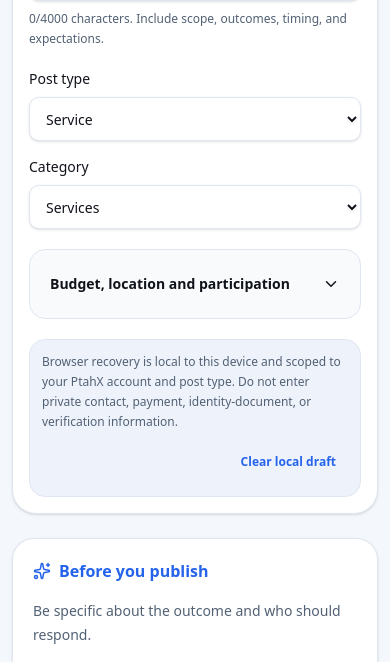
Scenario: opportunity composer › uses one mobile disclosure while keeping optional controls desktop-visible
(page scrolled)
Click the button "Budget, location and participation" at (195, 284), box [42,262,348,306]
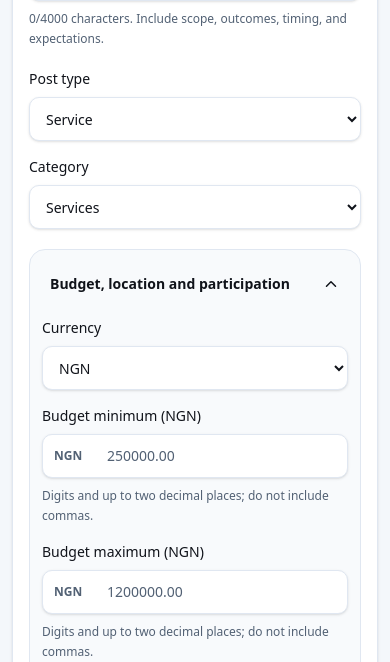
Now the button "Budget, location and participation" is expanded, box [42,262,348,306]
